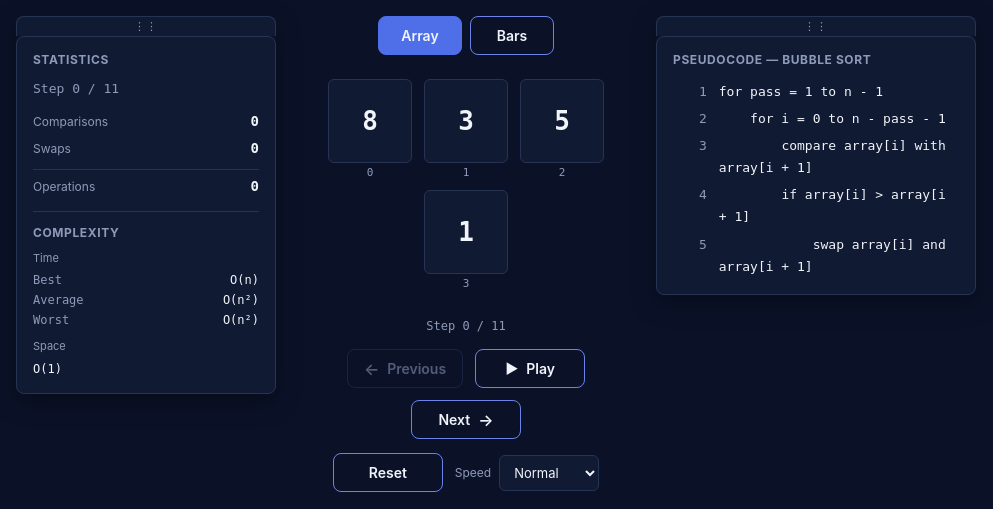
Test: StatisticsPanel integration — Previous decreases counters correctly › reverses to the exact statistics of the earlier step, not an independent decrement
Click the button "Next →" at (466, 420), box [411,400,521,439]
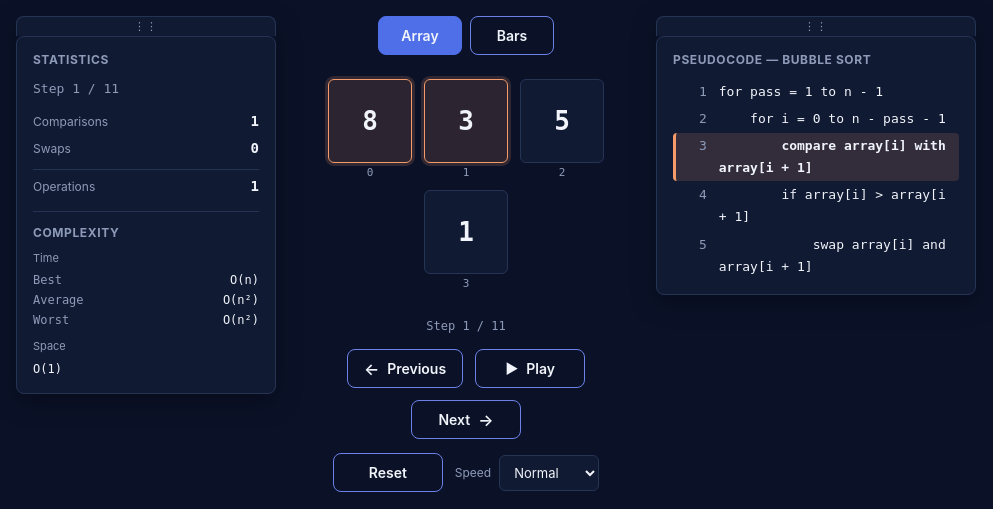
Click the button "Next →" at (466, 420), box [411,400,521,439]
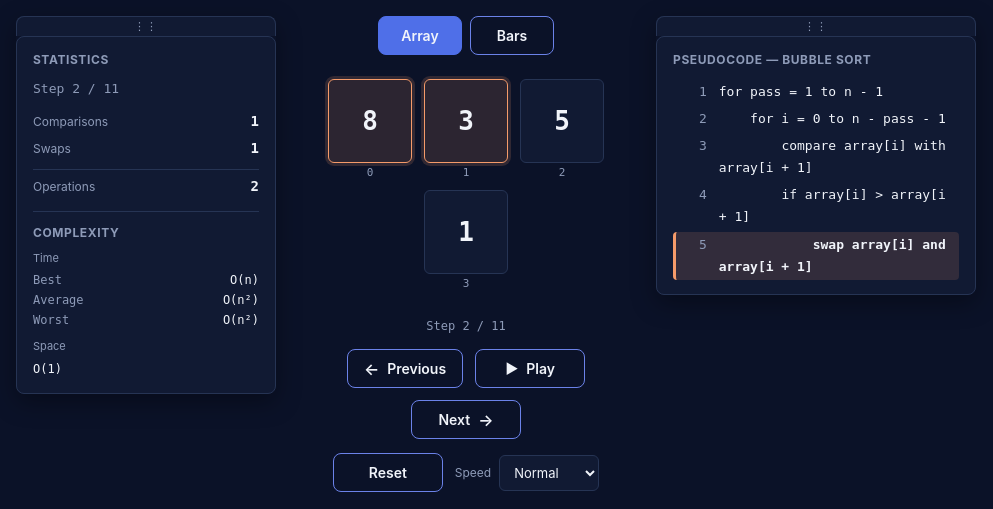
Click the button "Next →" at (466, 420), box [411,400,521,439]
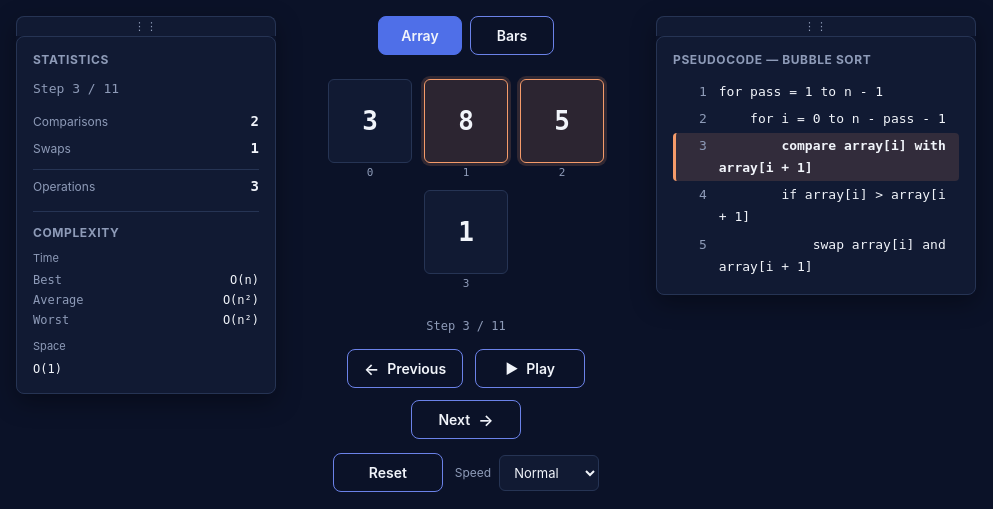
Click the button "← Previous" at (405, 368), box [347,349,463,388]
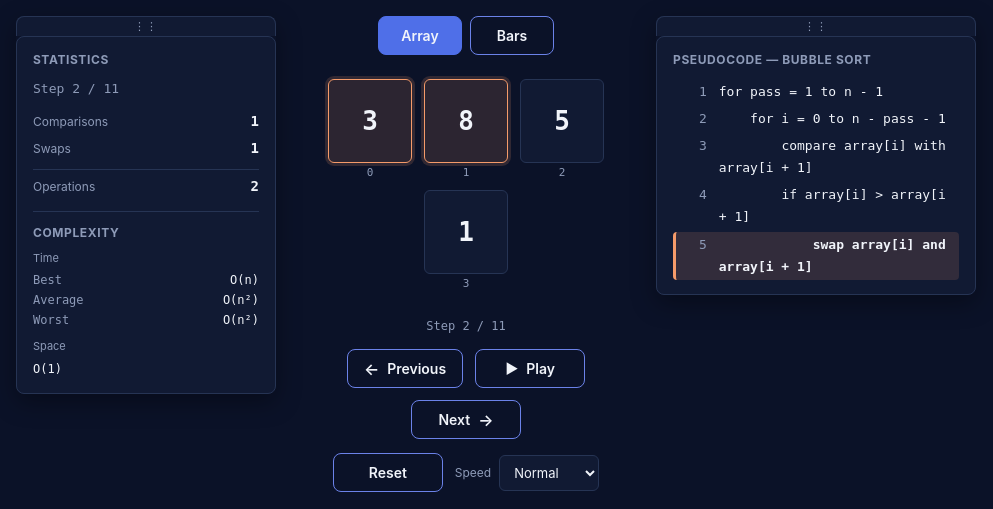
Expected: the text with class "statistics-panel__step" reads "Step 2 / 11", [33,81,119,96]
